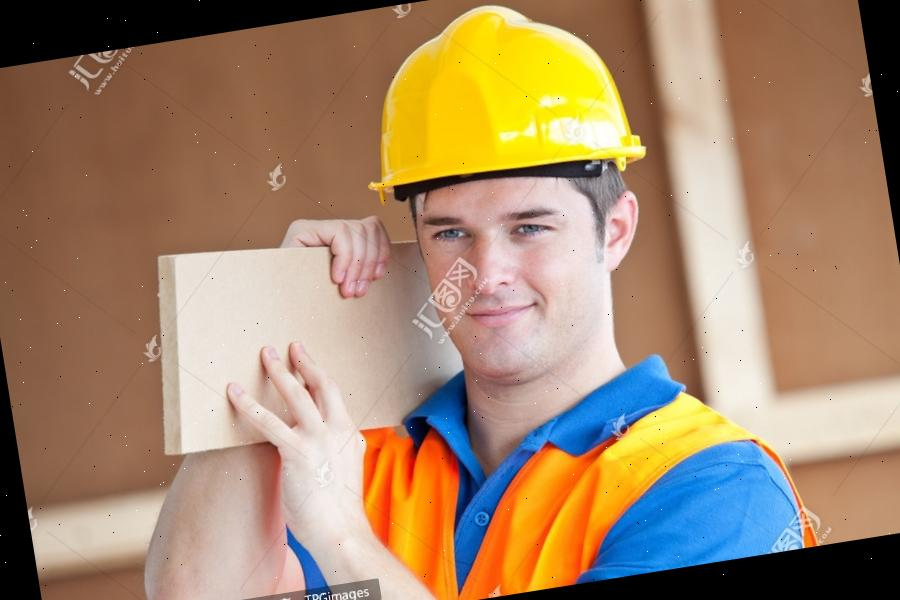helmet: (335, 0, 662, 217)
wear: (361, 357, 837, 600)
